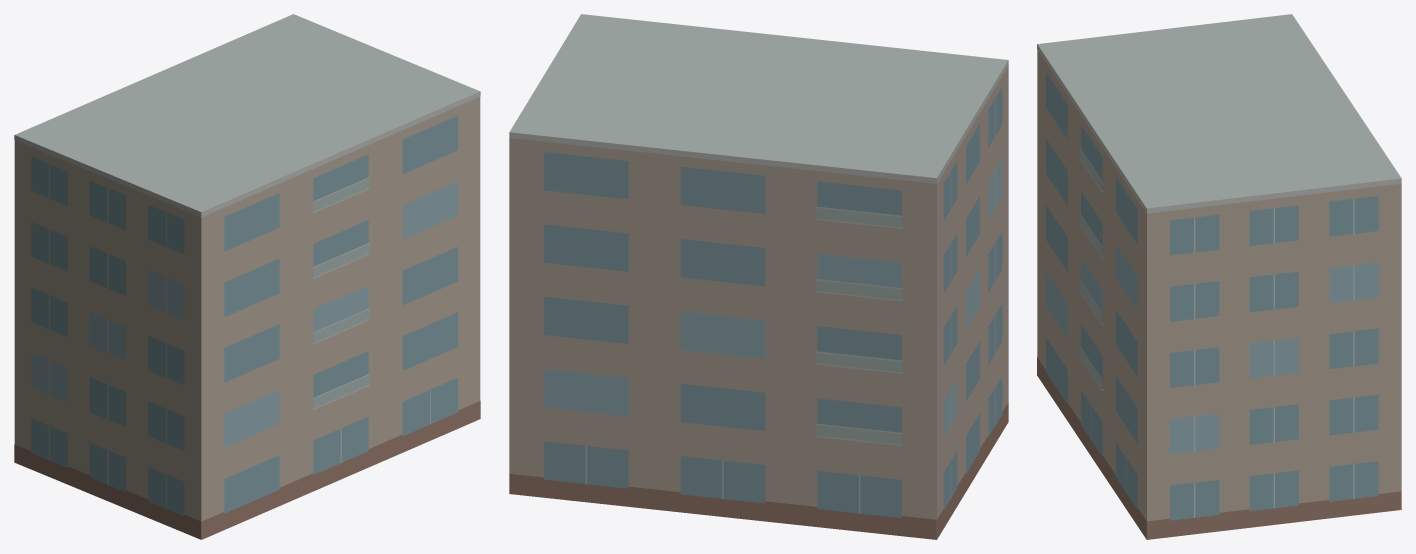
File: survey-upis-32755738.glb
3 renders of one model, left to right at view 1: azimuth 30°, elevation 25°; view 2: azimuth 150°, elevation 25°; view 3: azimuth 270°, elevation 25°, orthographic. The views are drawn at different scales.
Visible parts, largest first — view 1: survey-upis-32755738.tmp; view 2: survey-upis-32755738.tmp; view 3: survey-upis-32755738.tmp.
Boxes of the visible parts, left/top/right/bottom form: survey-upis-32755738.tmp: left=14, top=14, right=480, bottom=539; survey-upis-32755738.tmp: left=509, top=14, right=1008, bottom=539; survey-upis-32755738.tmp: left=1037, top=14, right=1401, bottom=539.
Size of the model in its own units: 19.65 by 15.6 by 15.56.
